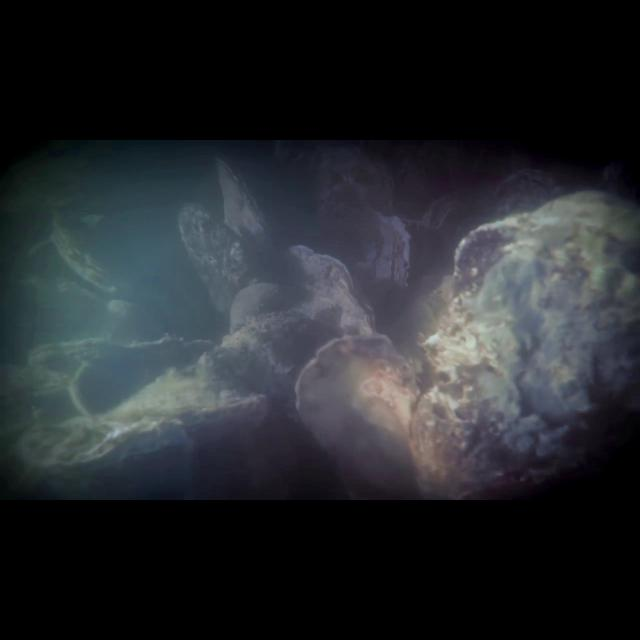Oyster-Closed: (414, 199, 634, 498), (294, 331, 430, 500), (175, 200, 264, 315), (281, 241, 379, 336), (318, 205, 415, 294), (46, 211, 135, 297), (30, 330, 218, 368), (214, 155, 276, 253), (65, 363, 102, 417)
